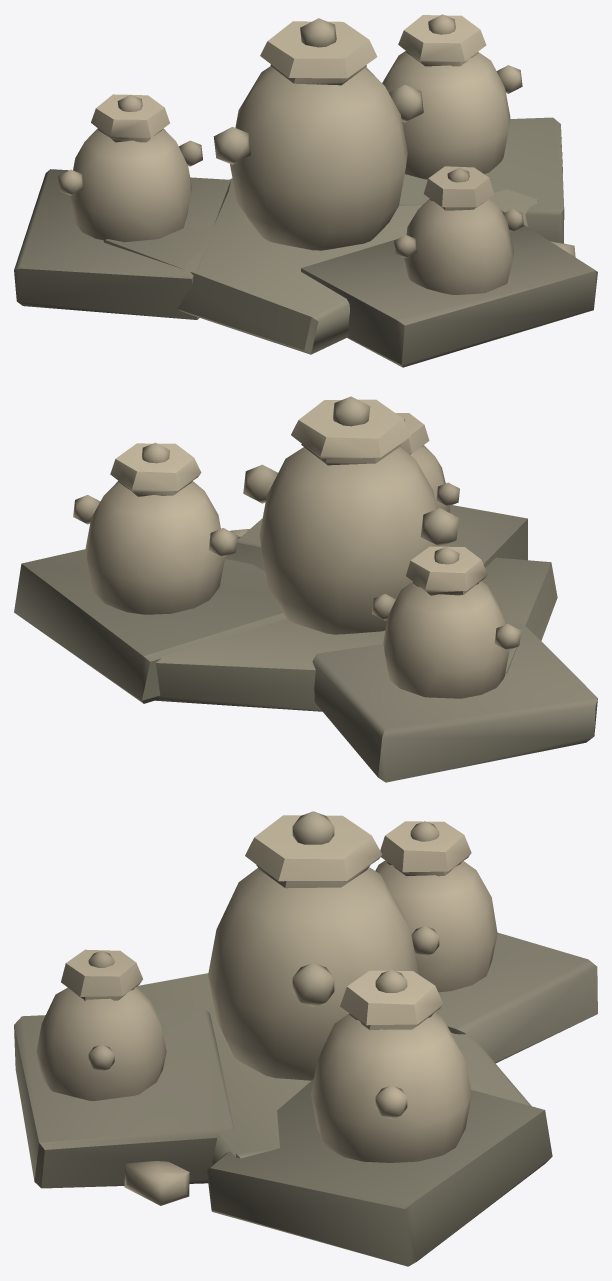
File: granary_jars_a_lod1.glb
The picture shows the model from 3 angles, top to bottom: view 1: azimuth 30°, elevation 25°; view 2: azimuth 150°, elevation 25°; view 3: azimuth 270°, elevation 25°; orthographic projection. The views are drawn at different scales.
Visible parts, largest first — view 1: Surface.001; view 2: Surface.001; view 3: Surface.001.
Part boxes in pixels (bbox=[...]): Surface.001: bbox=[14, 14, 597, 367]; Surface.001: bbox=[14, 396, 597, 782]; Surface.001: bbox=[14, 811, 597, 1266].
Size of the model in its own units: 3.36 by 1.47 by 2.62.
